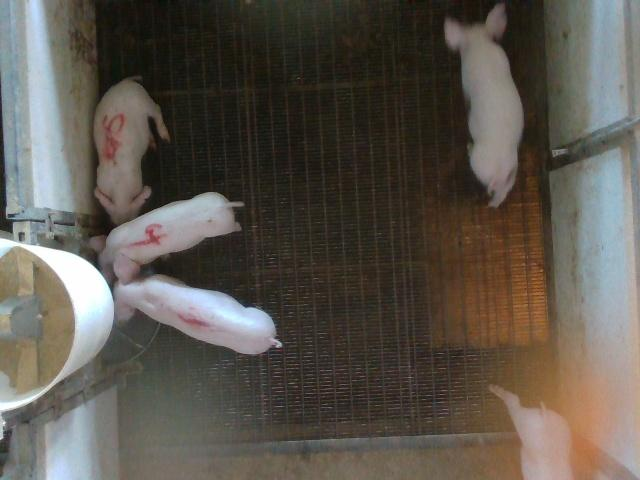pig-1: (114, 254, 282, 354)
pig-4: (104, 192, 244, 264)
pig-5: (94, 76, 170, 224)
